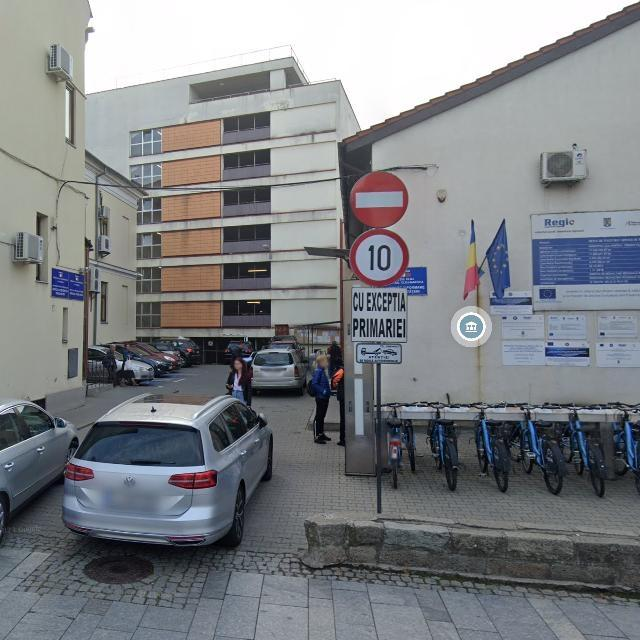forb_speed_over_10: (351, 228, 410, 287)
